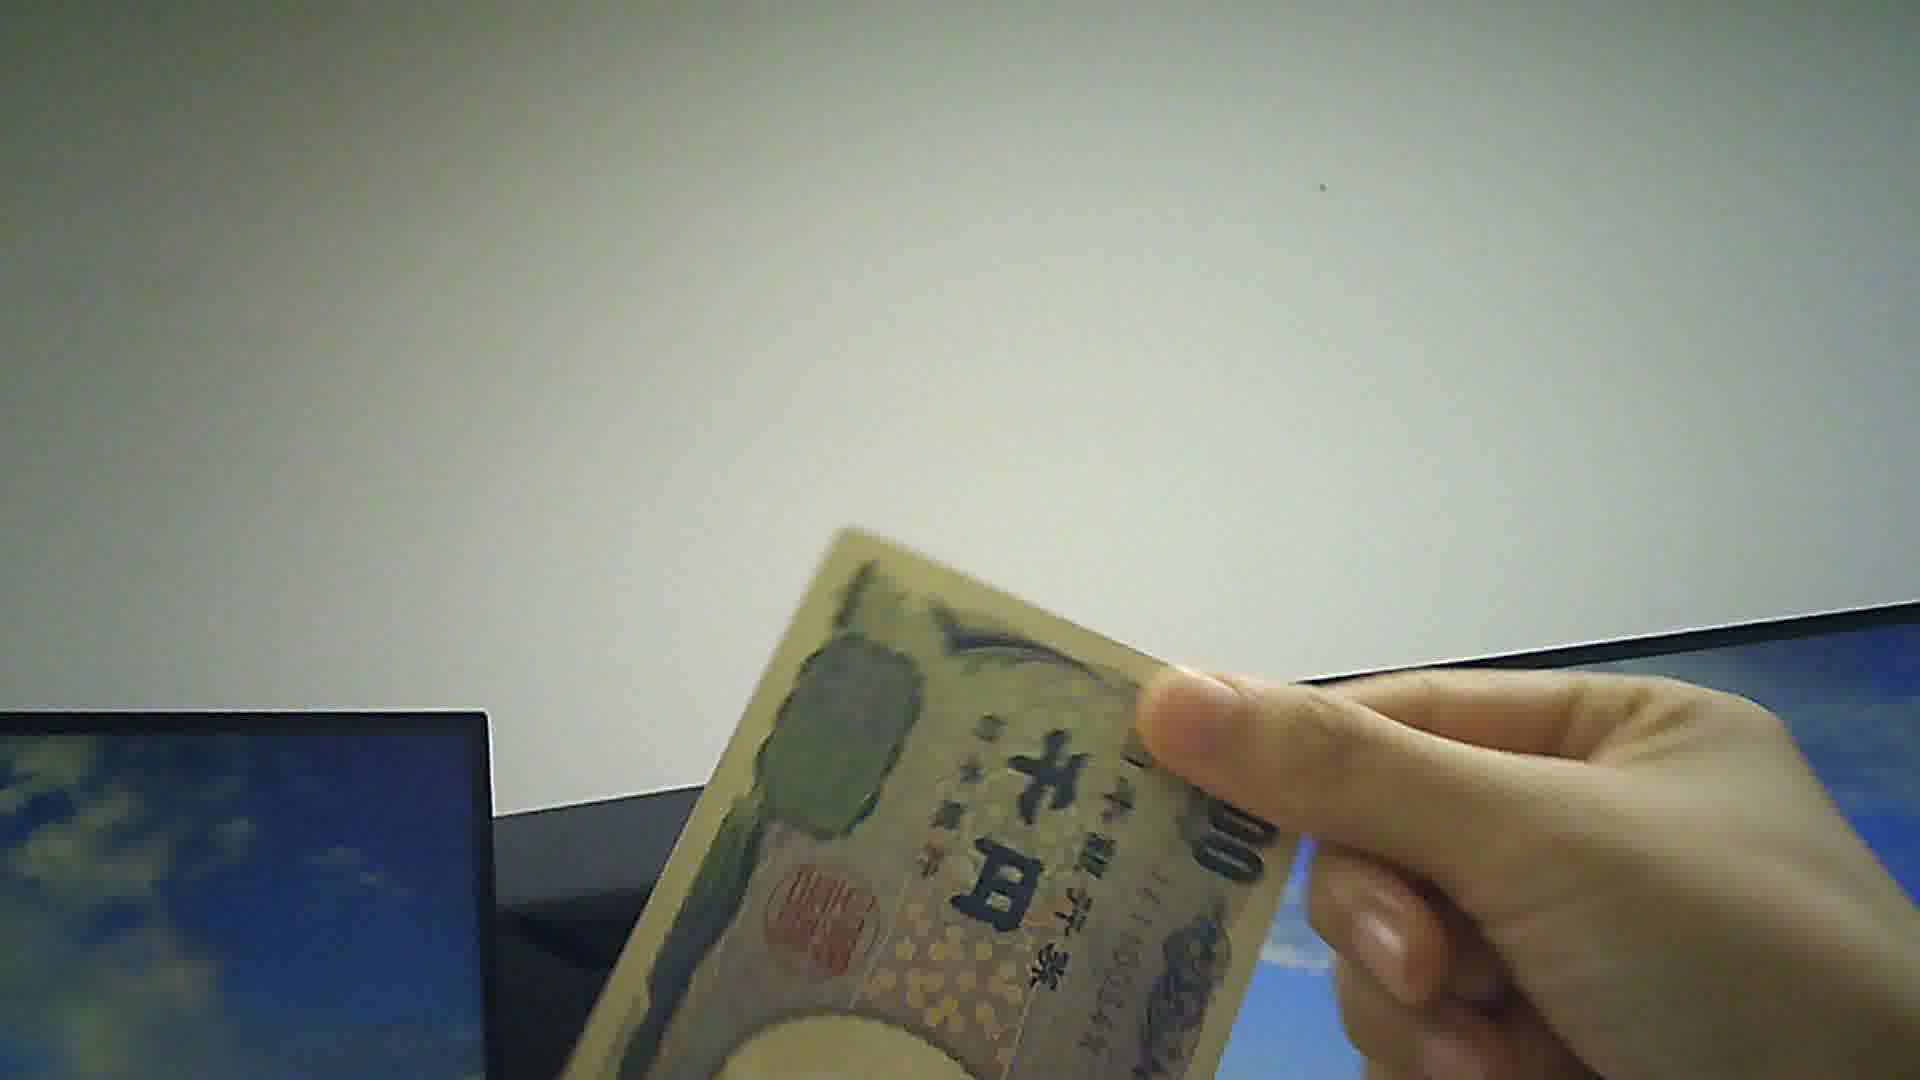1,000 Yen: (574, 520, 1313, 1079)
